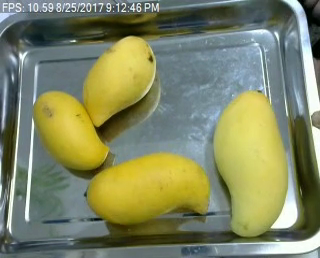Mango: (211, 88, 289, 238), (88, 150, 212, 227), (79, 34, 158, 127), (28, 85, 108, 171)
